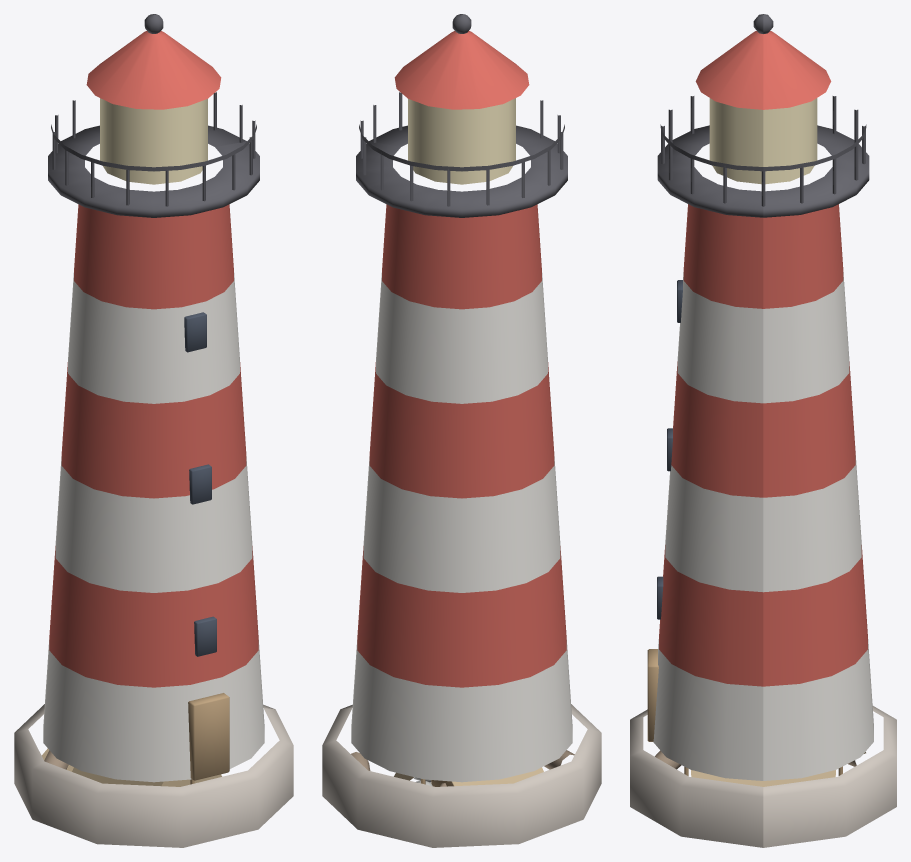
The model's file is adventure_props.glb.
The picture shows the model from 3 angles, left to right: view 1: azimuth 30°, elevation 25°; view 2: azimuth 150°, elevation 25°; view 3: azimuth 270°, elevation 25°; orthographic projection.
Visible parts, largest first — view 1: lighthouse, tent; view 2: lighthouse, tent; view 3: lighthouse, tent.
Part boxes in pixels (bbox=[...]): lighthouse: bbox=[14, 14, 293, 847]; tent: bbox=[41, 748, 221, 786]; lighthouse: bbox=[322, 14, 601, 847]; tent: bbox=[394, 767, 543, 786]; lighthouse: bbox=[630, 14, 896, 847]; tent: bbox=[684, 752, 865, 786].
Size of the model in its own units: 6 by 18.47 by 5.71.
